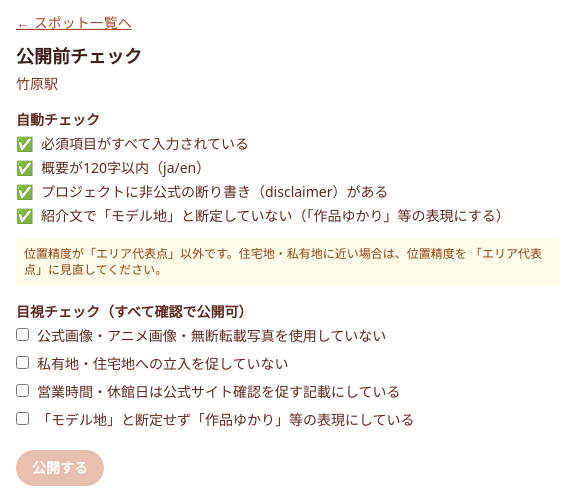
PublishCheckPage › publish button is disabled until all manual items are checked
The image size is (577, 503).
Expected: the button "公開する" is disabled, [16,450,104,486]
Click the checkbox labelled "公式画像・アニメ画像・無断転載写真を使用していない" at (22,334), box [16,328,29,341]
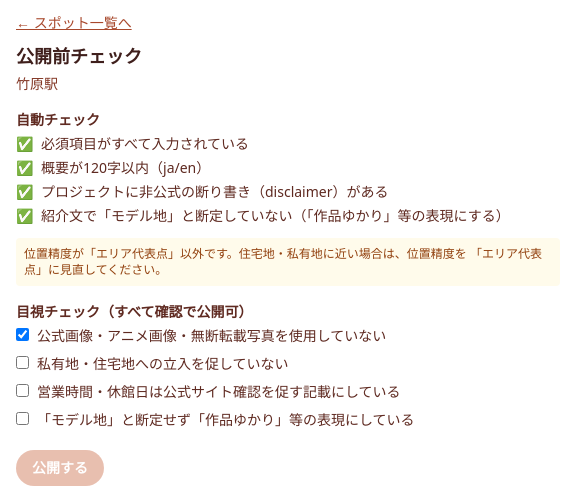
Click the checkbox labelled "私有地・住宅地への立入を促していない" at (22,362), box [16,356,29,369]
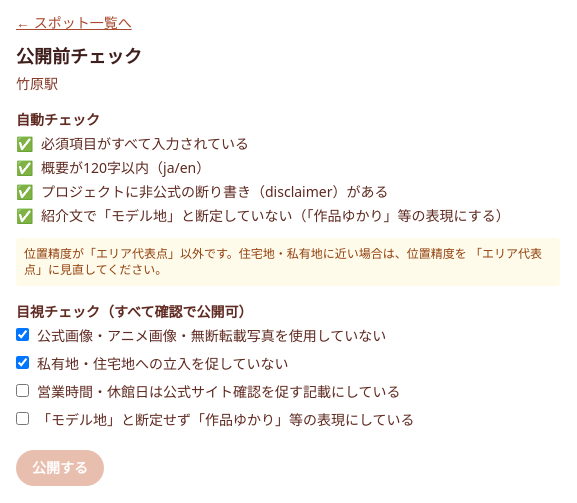
Click the checkbox labelled "営業時間・休館日は公式サイト確認を促す記載にしている" at (22,390), box [16,384,29,397]
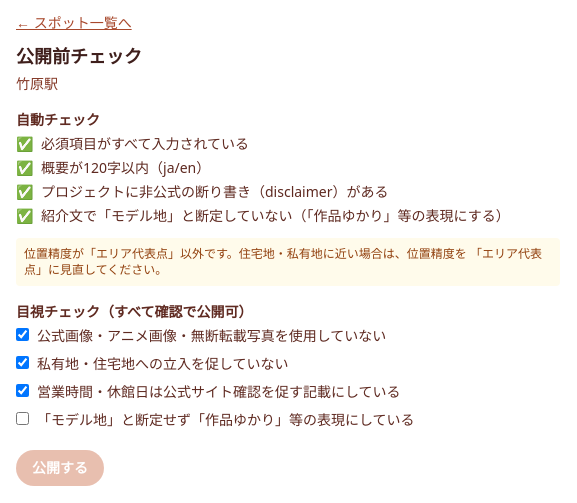
Click the checkbox labelled "「モデル地」と断定せず「作品ゆかり」等の表現にしている" at (22,418), box [16,412,29,425]
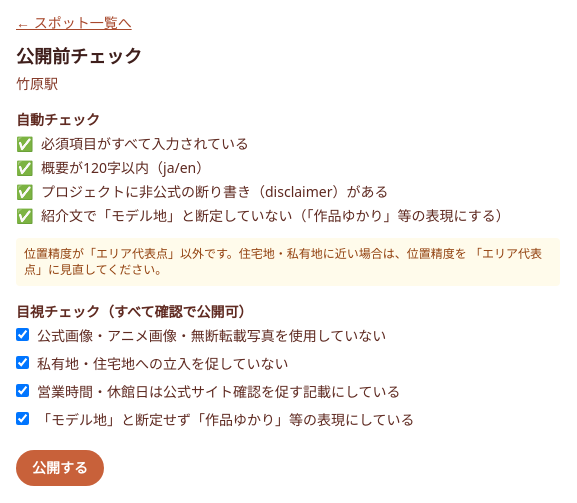
Expected: the button "公開する" is enabled, [16,450,104,486]
